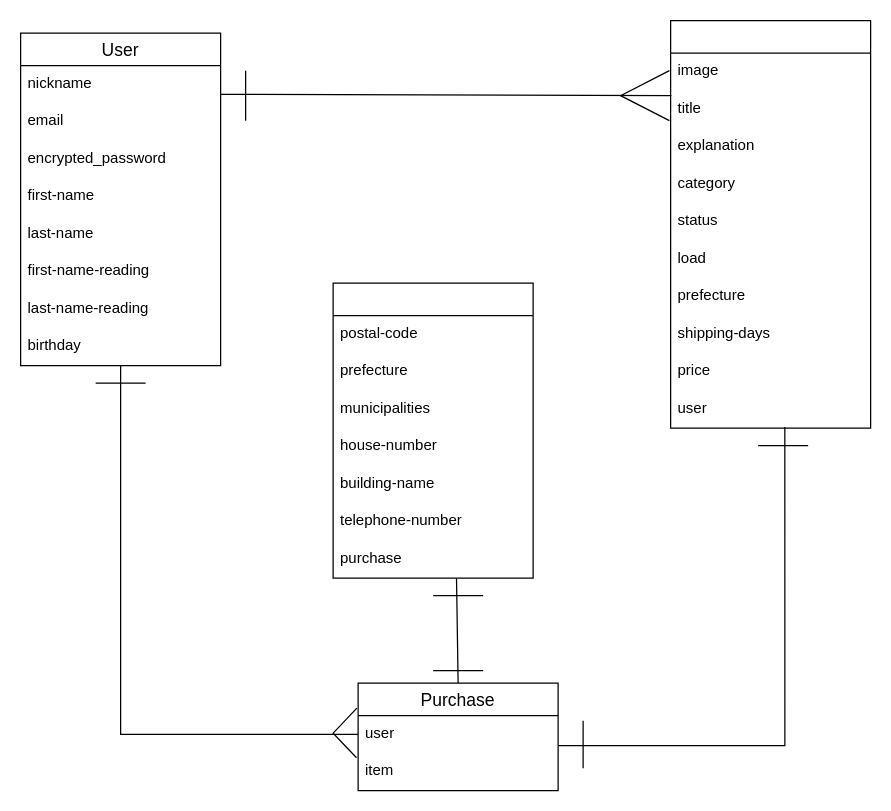
This 891x811 diagram has some shape labels left out. Each missing label, with the box of its shape:
Addresses: (332, 282, 533, 578)
Items: (669, 19, 871, 428)
